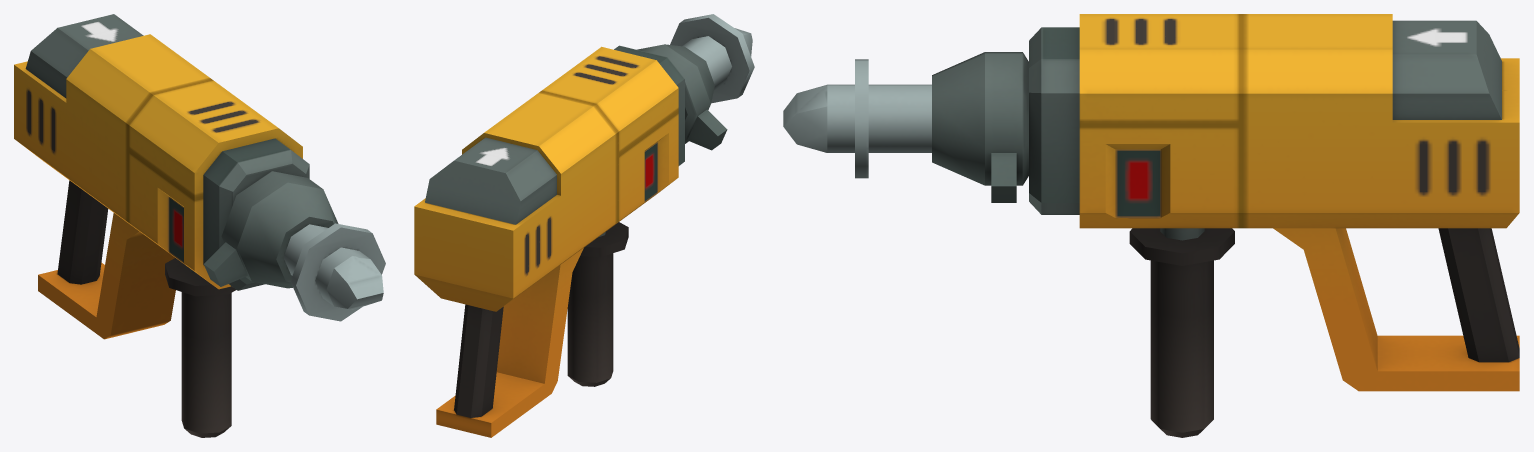
Rendered from drill_03.fbx.
3 views of the same model, side by side, from view 1: azimuth 30°, elevation 25°; view 2: azimuth 150°, elevation 25°; view 3: azimuth 270°, elevation 25° (orthographic). The views are drawn at different scales.
Parts seen in each view (by area): view 1: drill_03, boer; view 2: drill_03, boer; view 3: drill_03, boer.
Part boxes in pixels (left/top/right/bottom): drill_03: left=14, top=14, right=338, bottom=437; boer: left=283, top=223, right=385, bottom=321; drill_03: left=414, top=44, right=727, bottom=437; boer: left=670, top=14, right=754, bottom=103; drill_03: left=932, top=14, right=1519, bottom=437; boer: left=783, top=59, right=931, bottom=178.
Size of the model in its own units: 0.1922 by 0.4211 by 0.7081.
